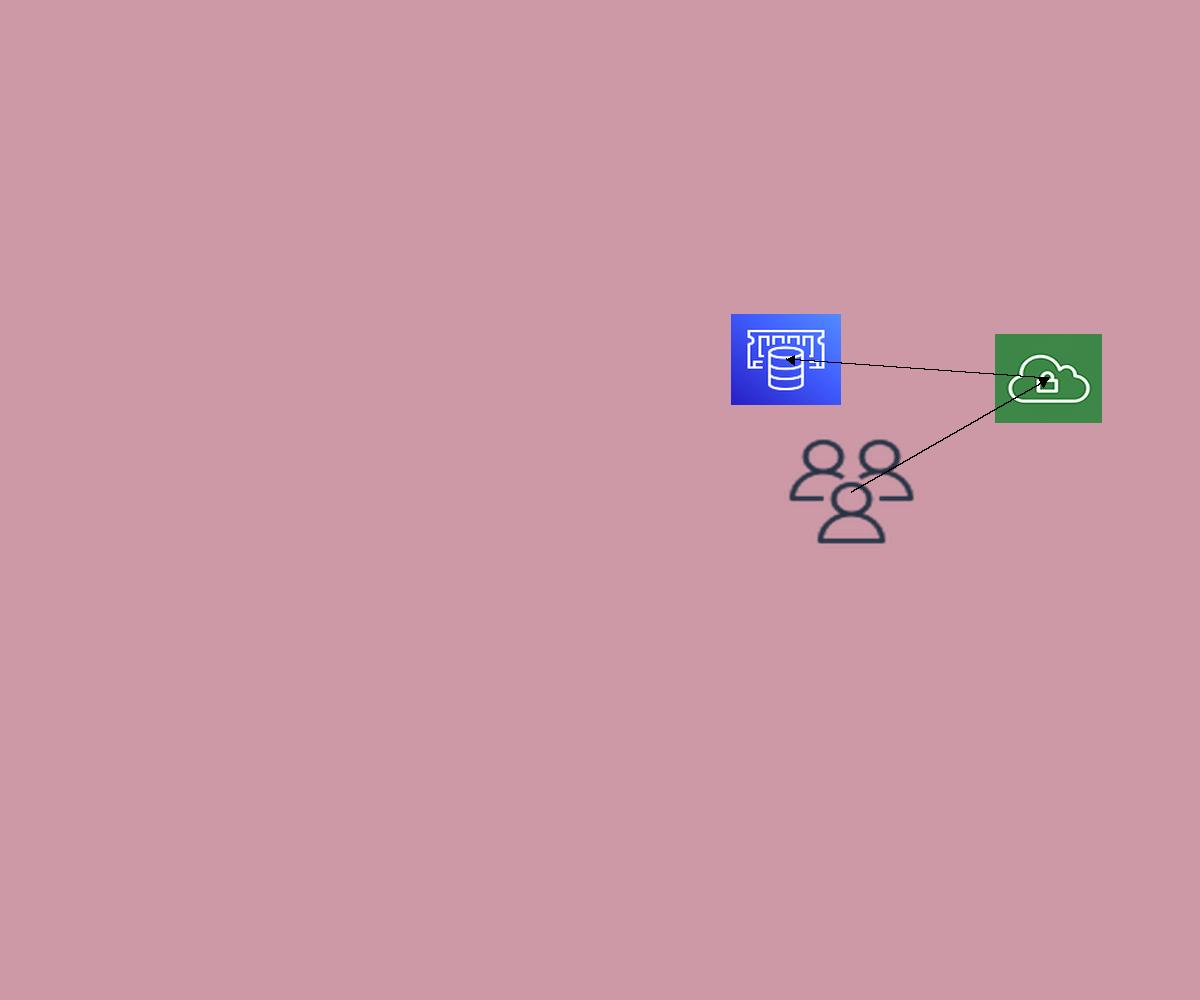AWS-ElastiCache: (731, 314, 841, 405)
AWS-Private_vpc: (995, 334, 1102, 423)
AWS-Res_Users: (784, 435, 919, 548)
